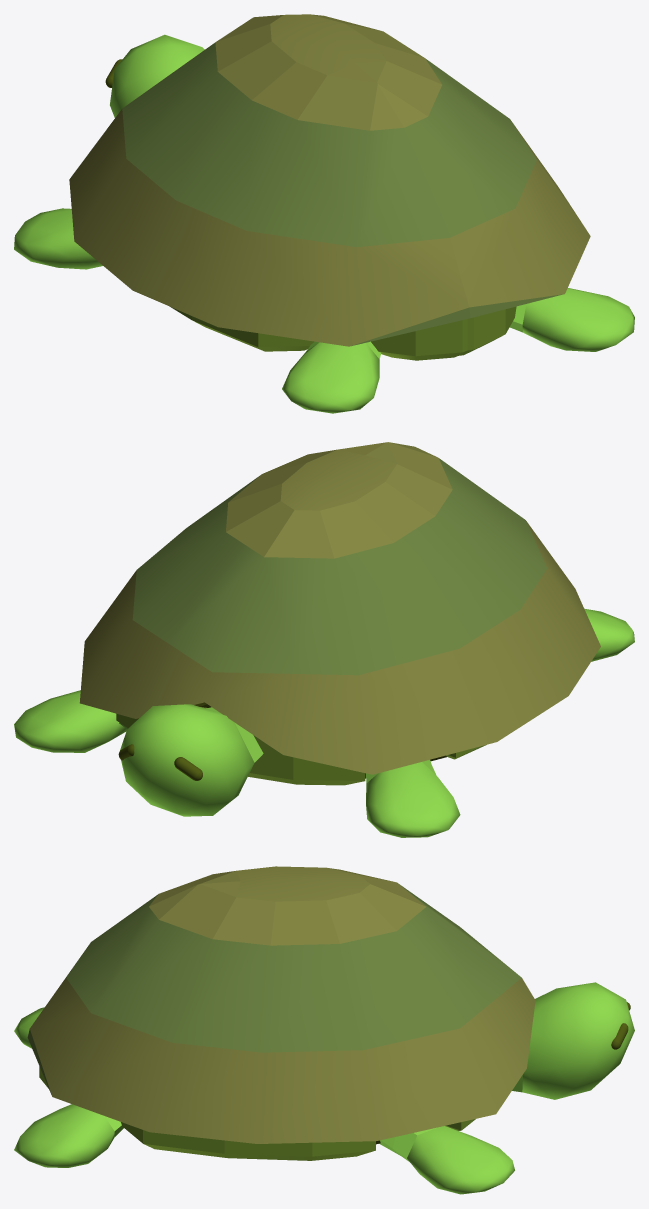
The model's file is Tortle.FBX.
3 renders of one model, top to bottom at view 1: azimuth 30°, elevation 25°; view 2: azimuth 150°, elevation 25°; view 3: azimuth 270°, elevation 25°, orthographic. The views are drawn at different scales.
Parts seen in each view (by area): view 1: Line001, GeoSphere003, GeoSphere005, GeoSphere001, GeoSphere004; view 2: Line001, GeoSphere001, GeoSphere004, GeoSphere002, GeoSphere005; view 3: Line001, GeoSphere001, GeoSphere002, GeoSphere003, GeoSphere005.
Boxes of the visible parts, x1=… form: Line001: x1=69, y1=14, x2=590, y2=360; GeoSphere003: x1=510, y1=288, x2=634, y2=351; GeoSphere005: x1=282, y1=341, x2=381, y2=413; GeoSphere001: x1=105, y1=34, x2=204, y2=117; GeoSphere004: x1=14, y1=208, x2=102, y2=269; Line001: x1=79, y1=442, x2=600, y2=785; GeoSphere001: x1=118, y1=704, x2=263, y2=816; GeoSphere004: x1=366, y1=760, x2=460, y2=837; GeoSphere002: x1=14, y1=690, x2=127, y2=752; GeoSphere005: x1=584, y1=608, x2=634, y2=661; Line001: x1=27, y1=866, x2=535, y2=1160; GeoSphere001: x1=512, y1=982, x2=634, y2=1099; GeoSphere002: x1=379, y1=1126, x2=514, y2=1194; GeoSphere003: x1=14, y1=1104, x2=123, y2=1167; GeoSphere005: x1=14, y1=1007, x2=44, y2=1048.
Size of the model in its own units: 55.58 by 30.48 by 74.71.
